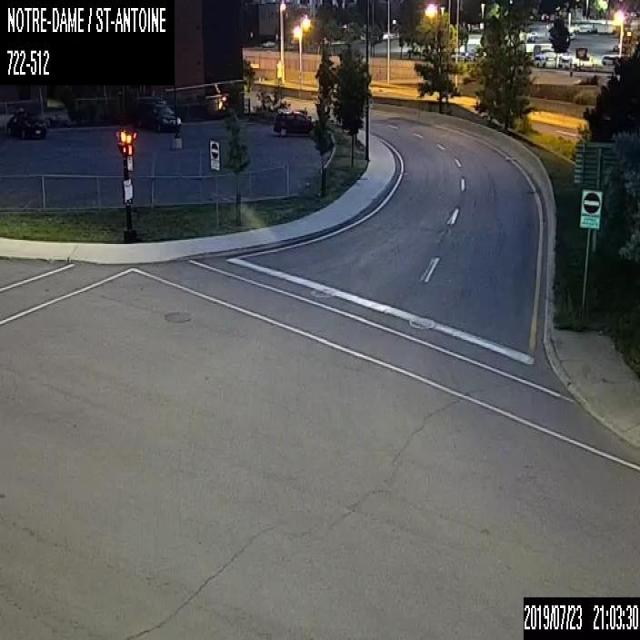vehicle: (134, 97, 182, 130), (7, 109, 47, 139), (272, 109, 314, 135)
